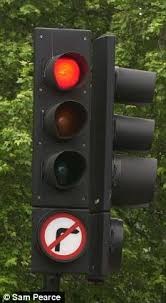red: (26, 21, 98, 212), (41, 43, 90, 200), (48, 54, 85, 192)
